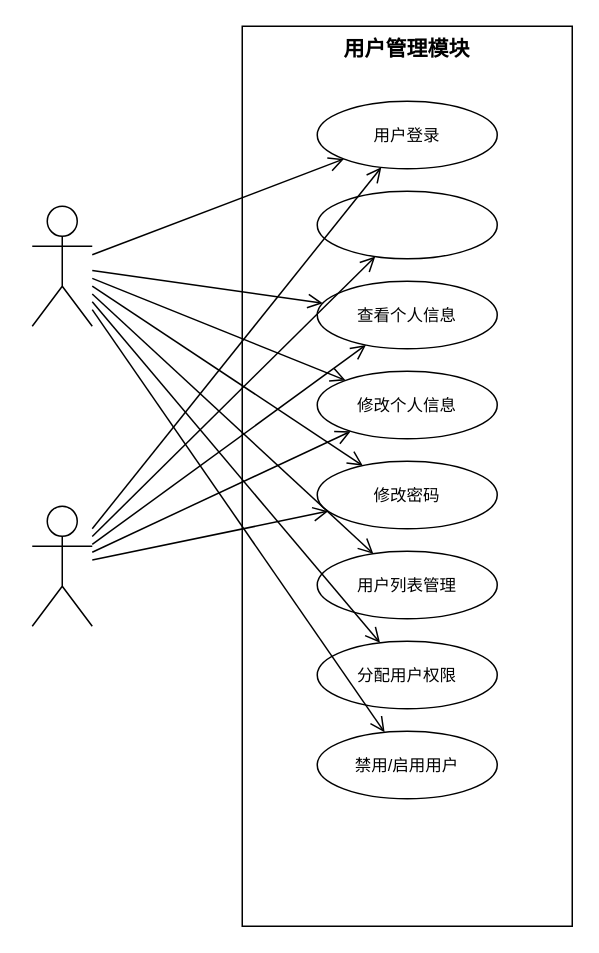
Image size: 599x953. Some labels were removed from this diagram. Each missing label, with the centre of its shape:
普通用户: (61,565)
用户注册: (406,224)
管理员: (61,265)
